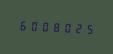eight: (50, 19, 60, 34)
five: (83, 21, 93, 35)
six: (17, 17, 27, 32)
two: (72, 20, 82, 35)
zero: (28, 18, 38, 33), (39, 19, 49, 33), (61, 20, 71, 34)
